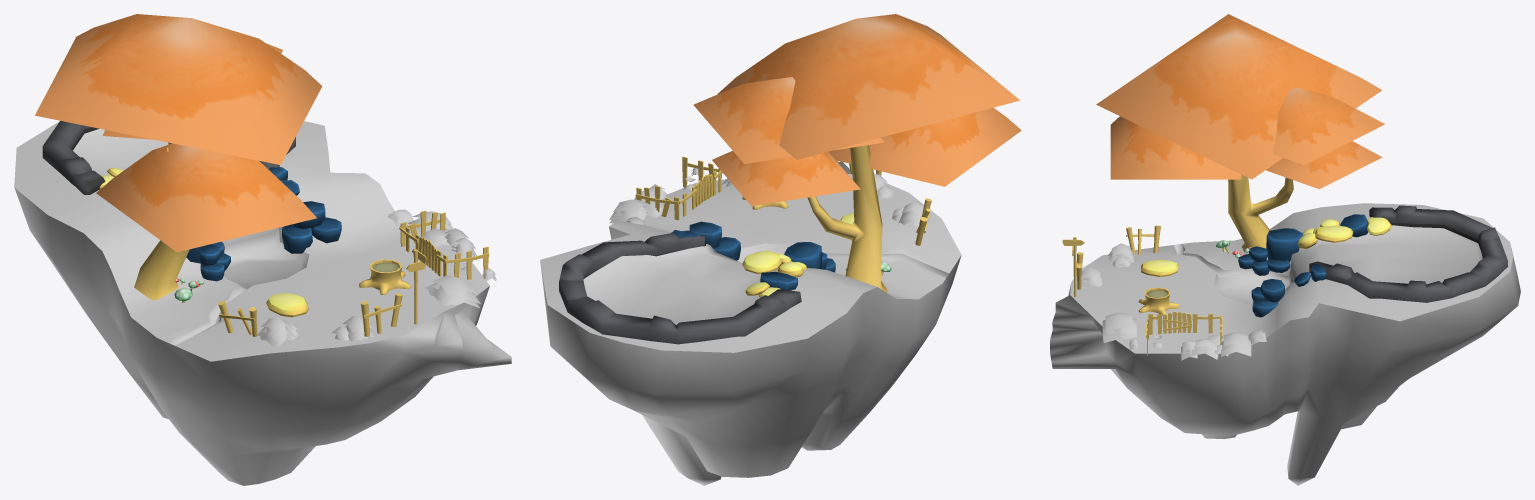
File: FloatingIsland.FBX
The picture shows the model from 3 angles, left to right: view 1: azimuth 30°, elevation 25°; view 2: azimuth 150°, elevation 25°; view 3: azimuth 270°, elevation 25°; orthographic projection. The views are drawn at different scales.
Visible parts, largest first — view 1: floatingislanddirt, floatingislandtop, treeleaves001, treeleaves003, floatingislandmud, waterblocks, fencedarea, treetrunk, rockthreecluster001, bush008, treestump, rockthreecluster002 (+3 smaller); view 2: floatingislanddirt, treeleaves001, floatingislandtop, floatingislandmud, waterblocks, treeleaves003, treeleaves004, treeleaves005, treetrunk, fencedarea, rockthreecluster001, rock004 (+3 smaller); view 3: floatingislanddirt, treeleaves001, floatingislandtop, floatingislandmud, waterblocks, treeleaves004, treeleaves003, treeleaves005, treetrunk, fencedarea, rock004, rockthreecluster001 (+6 smaller).
Boxes of the visible parts, x1,y1,x2,y2 form: floatingislanddirt: (14,188,511,485); floatingislandtop: (14,121,489,361); treeleaves001: (35,14,322,164); treeleaves003: (96,143,316,252); floatingislandmud: (73,128,309,345); waterblocks: (42,121,295,194); fencedarea: (399,210,489,279); treetrunk: (134,142,189,300); rockthreecluster001: (282,201,341,253); bush008: (425,275,480,307); treestump: (359,259,411,295); rockthreecluster002: (200,244,230,281); floatingislanddirt: (540,161,961,485); treeleaves001: (717,14,1019,159); floatingislandtop: (540,174,961,352); floatingislandmud: (583,243,948,325); waterblocks: (559,233,801,344); treeleaves003: (829,107,1021,186); treeleaves004: (693,77,884,163); treeleaves005: (712,151,860,205); treetrunk: (807,145,887,292); fencedarea: (635,156,722,220); rockthreecluster001: (689,221,740,260); rock004: (784,242,821,268); floatingislanddirt: (1050,240,1520,485); treeleaves001: (1096,14,1381,179); floatingislandtop: (1070,203,1512,353); floatingislandmud: (1173,225,1482,303); waterblocks: (1309,205,1507,302); treeleaves004: (1272,88,1384,165); treeleaves003: (1110,116,1241,179); treeleaves005: (1266,141,1382,189); treetrunk: (1228,174,1293,252); fencedarea: (1146,311,1222,355); rock004: (1266,228,1302,262); rockthreecluster001: (1251,279,1284,317).
Size of the model in its own units: 331 by 375 by 401.
